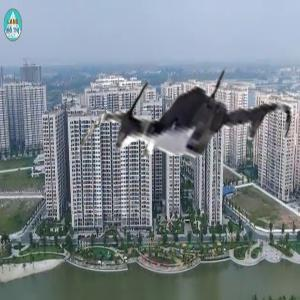drone: (91, 21, 293, 223)
